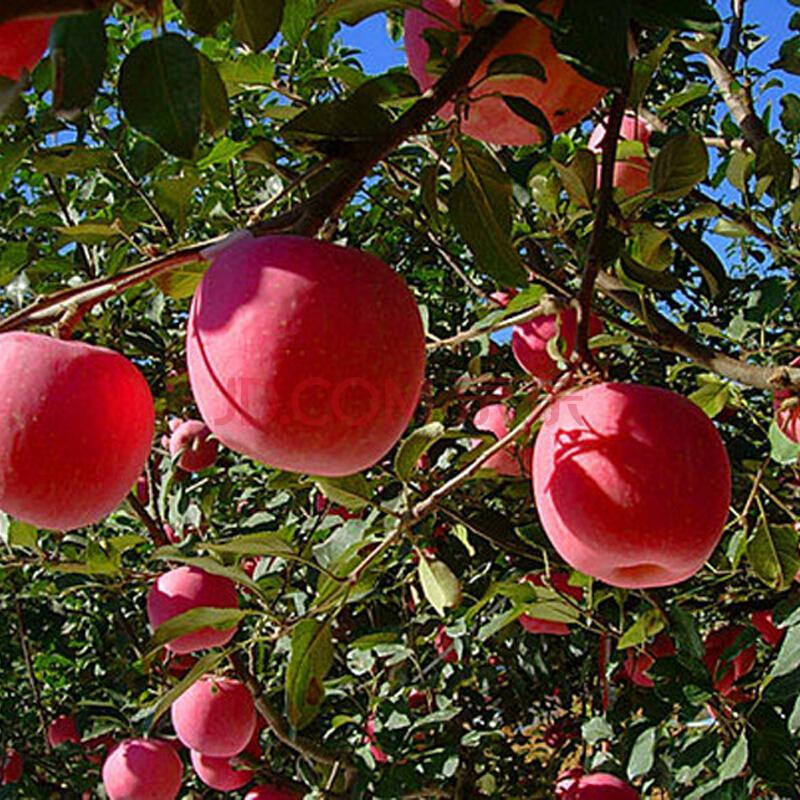apple: (182, 234, 428, 481), (533, 380, 734, 591), (1, 328, 156, 529)
